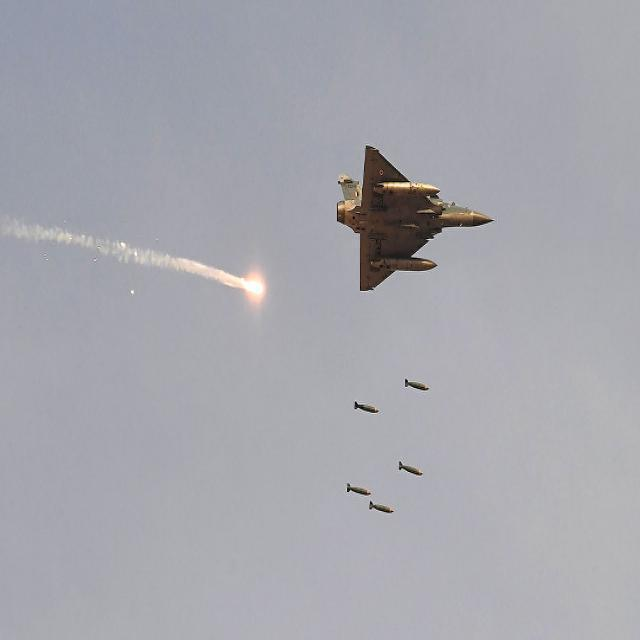missile: (400, 457, 428, 478), (370, 500, 397, 516), (344, 485, 373, 496), (403, 378, 430, 389), (355, 403, 379, 414)
